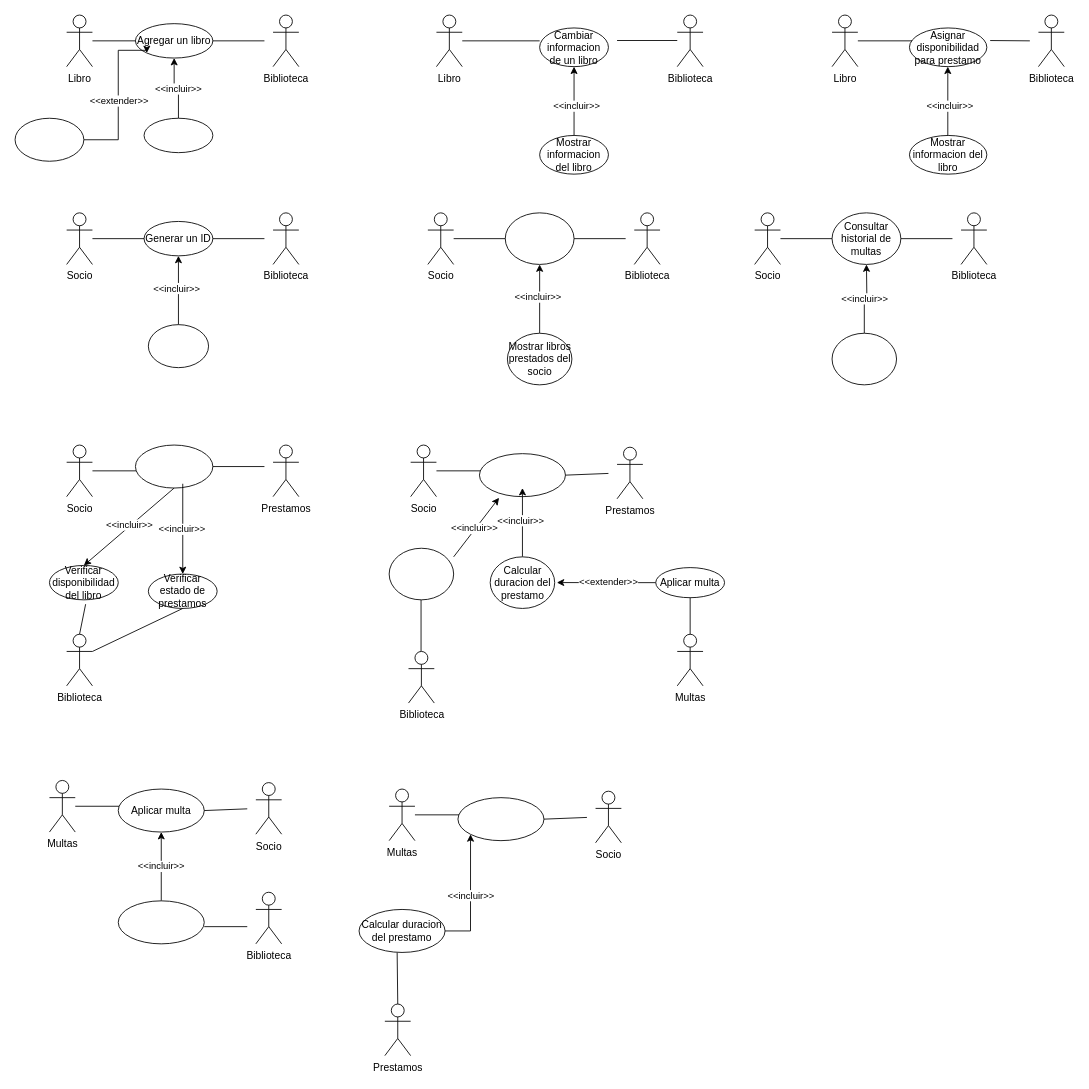
The diagram is 1089 pixels wide and 1089 high, and some of its shapes have lost their labels. Each missing label, with the box of its shape:
Actualizar estado de prestamos: (388, 547, 454, 600)
Calcular valor de la multa: (457, 797, 544, 841)
Cambiar informacion: (14, 117, 84, 161)
Consultar estado de prestamos: (504, 212, 574, 264)
Devolver un prestamo: (479, 453, 565, 497)
Mostrar estado actual de prestamos: (831, 332, 897, 385)
Mostrar informacion del socio: (147, 324, 209, 368)
Pedir un prestamo: (135, 444, 213, 488)
Registrar la multa en el historial del socio: (117, 900, 204, 944)
Verificar ISBN: (143, 117, 213, 153)
